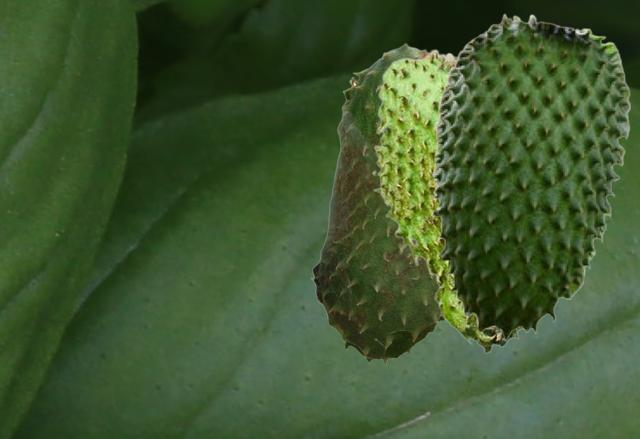guyabano: (431, 13, 630, 340), (310, 42, 456, 364), (371, 48, 522, 353)
